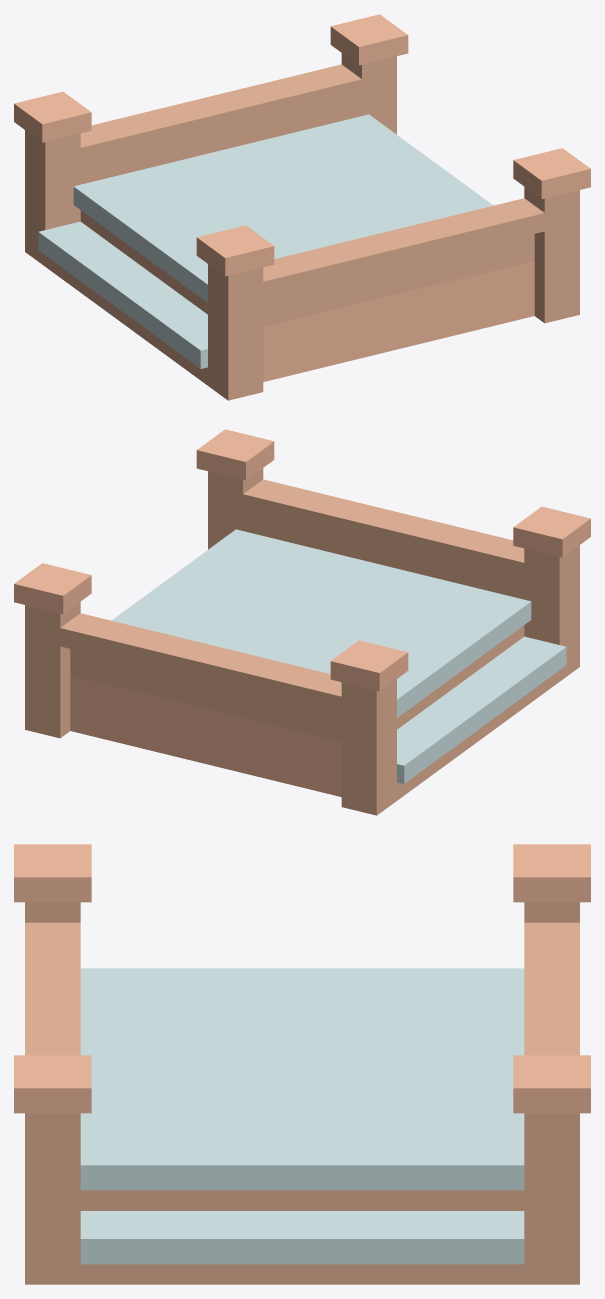
File: bridge_wood.glb
3 renders of one model, top to bottom at view 1: azimuth 30°, elevation 25°; view 2: azimuth 150°, elevation 25°; view 3: azimuth 270°, elevation 25°, orthographic. The views are drawn at different scales.
Parts seen in each view (by area): view 1: bridge_wood; view 2: bridge_wood; view 3: bridge_wood.
Boxes of the visible parts, left/top/right/bottom form: bridge_wood: left=14, top=14, right=590, bottom=400; bridge_wood: left=14, top=429, right=590, bottom=815; bridge_wood: left=14, top=844, right=590, bottom=1284.
Size of the model in its own units: 1.04 by 0.4 by 1.04.
1 material, 1 textured.
